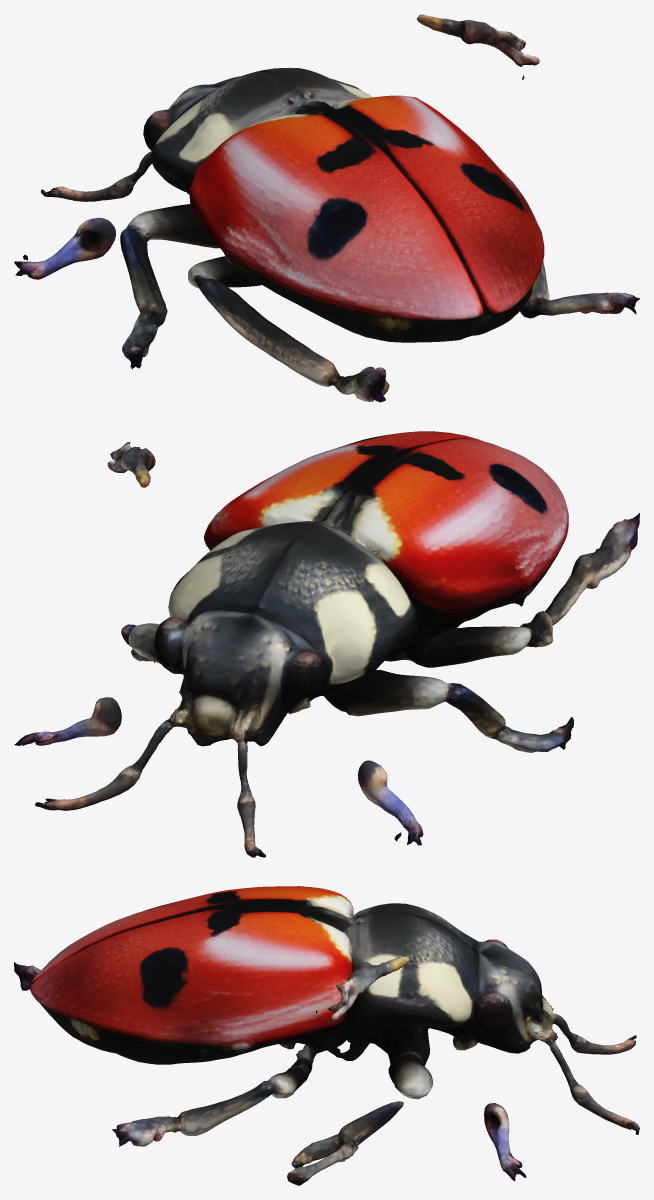
The model's file is sculpt2.glb.
3 renders of one model, top to bottom at view 1: azimuth 30°, elevation 25°; view 2: azimuth 150°, elevation 25°; view 3: azimuth 270°, elevation 25°, orthographic. The views are drawn at different scales.
Visible parts, largest first — view 1: mesh; view 2: mesh; view 3: mesh.
Boxes of the visible parts, <box> form: mesh: <box>14,14,639,402</box>; mesh: <box>14,431,639,857</box>; mesh: <box>14,886,639,1185</box>.
Bounding box in the file's own units: 0.6139 × 0.3289 × 0.8862.
1 material, 1 textured.
